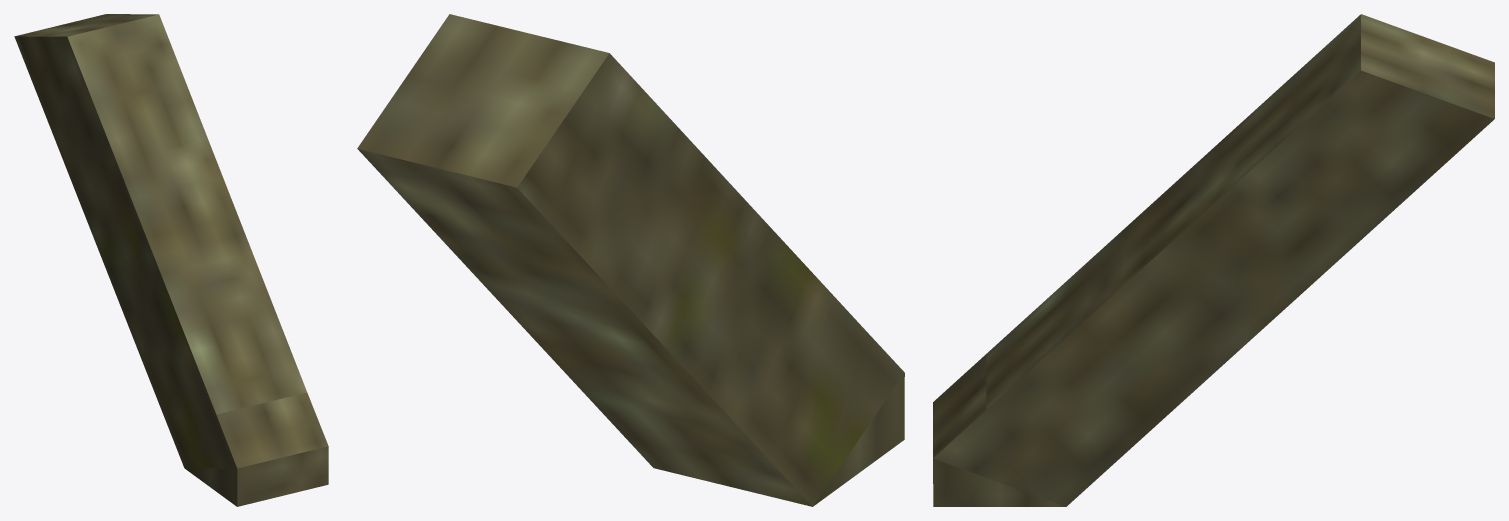
Rendered from poplar_thin_branch_45_straight.obj.
The picture shows the model from 3 angles, left to right: view 1: azimuth 30°, elevation 25°; view 2: azimuth 150°, elevation 25°; view 3: azimuth 270°, elevation 25°; orthographic projection. The views are drawn at different scales.
Visible parts, largest first — view 1: cube; view 2: cube; view 3: cube.
Part boxes in pixels (x1,y1,x2,y2): cube: (14, 14, 328, 506); cube: (357, 14, 904, 506); cube: (933, 14, 1494, 506).
Bounding box in the file's own units: 0.3125 × 1.12 × 1.31.
